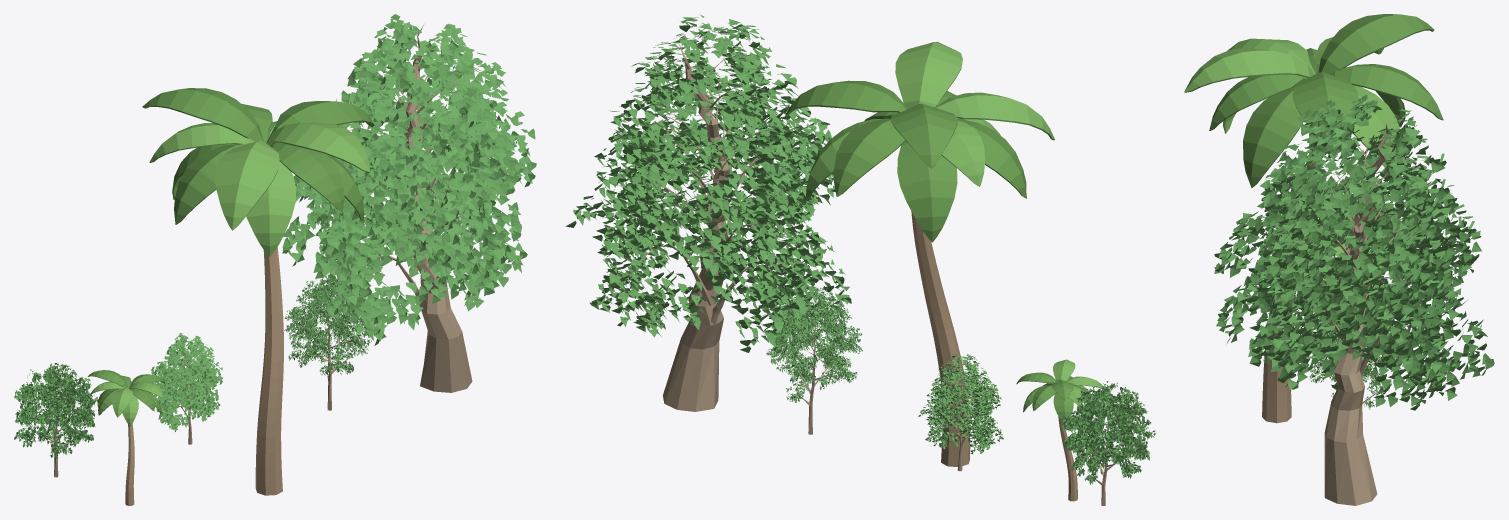
File: modelosArboles.glb
3 renders of one model, left to right at view 1: azimuth 30°, elevation 25°; view 2: azimuth 150°, elevation 25°; view 3: azimuth 270°, elevation 25°, orthographic. The views are drawn at different scales.
Visible parts, largest first — view 1: Arbol1.001, Arbol_PalG, Arbol2, Arbol4, Arbol3, Arbol_Pal; view 2: Arbol1.001, Arbol_PalG, Arbol2, Arbol4, Arbol3, Arbol_Pal; view 3: Arbol1.001, Arbol_PalG, Arbol4.
Boxes of the visible parts, <box> form: Arbol1.001: <box>282,14,536,392</box>; Arbol_PalG: <box>142,88,374,495</box>; Arbol2: <box>14,363,97,477</box>; Arbol4: <box>284,275,371,410</box>; Arbol3: <box>151,333,222,444</box>; Arbol_Pal: <box>87,370,165,505</box>; Arbol1.001: <box>565,14,851,411</box>; Arbol_PalG: <box>785,41,1054,466</box>; Arbol2: <box>1062,381,1155,505</box>; Arbol4: <box>766,286,862,434</box>; Arbol3: <box>918,353,1003,471</box>; Arbol_Pal: <box>1016,359,1104,501</box>; Arbol1.001: <box>1214,95,1494,505</box>; Arbol_PalG: <box>1184,14,1443,423</box>; Arbol4: <box>1309,310,1399,409</box>.
Bounding box in the file's own units: 93.36 × 68.93 × 46.97.
